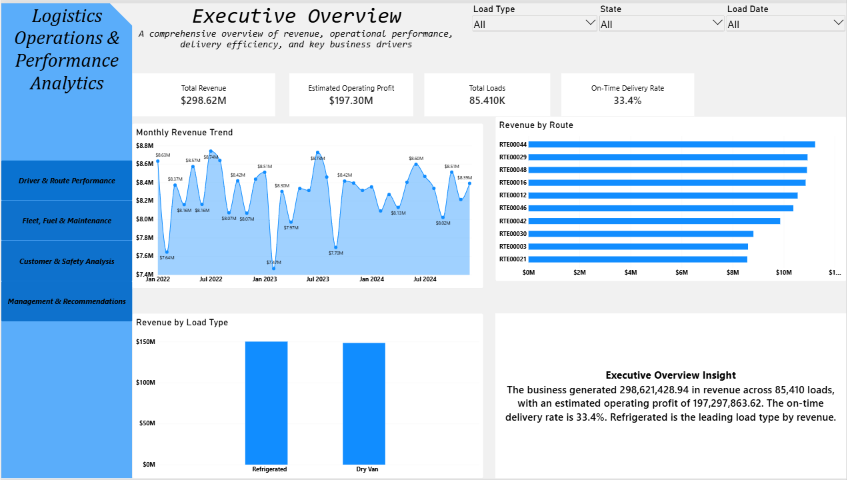

The dashboard page shown, as its layout file describes it:
{"tool":"powerbi","page":{"name":"Executive Overview","canvas":[3840,2160],"ordinal":0},"visuals":[{"type":"shape","box":[0,0,595.1,2157.7],"z":0},{"type":"cardVisual","fields":{"Data":["Loads.Total Revenue"]},"box":[595.1,318,649.6,195.3],"z":1000},{"type":"cardVisual","fields":{"Data":["Loads.Estimated Operating Profit"]},"box":[1308.3,318,563.3,195.3],"z":2000},{"type":"cardVisual","fields":{"Data":["Loads.Total Loads"]},"box":[1921.5,318,572.4,195.3],"z":3000},{"type":"cardVisual","fields":{"Data":["Delivery Events.On-Time Delivery Rate"]},"box":[2543.9,318,604.2,195.3],"z":4000},{"type":"lineChart","title":"Monthly Revenue Trend","fields":{"Category":["Loads.load_date.Variation.Date Hierarchy.Year","Loads.load_date.Variation.Date Hierarchy.Month"],"Y":["Loads.Total Revenue"]},"box":[595.1,545.1,1594.5,749.5],"z":5000},{"type":"clusteredBarChart","title":"Revenue by Route","fields":{"Category":["Loads.route_id"],"Y":["Loads.Total Revenue"]},"box":[2244.1,513.3,1594.5,749.5],"z":6000},{"type":"clusteredColumnChart","title":"Revenue by Load Type","fields":{"Category":["Loads.load_type"],"Y":["Loads.Total Revenue"]},"box":[595.1,1408.2,1594.5,749.5],"z":7000},{"type":"cardVisual","fields":{"Data":["Loads.Executive Overview Insight"]},"box":[2244.1,1408.2,1594.5,749.5],"z":8000},{"type":"textbox","box":[595.1,0,1490,277.1],"z":9000},{"type":"actionButton","box":[0,713.2,595.1,181.7],"z":10000},{"type":"actionButton","box":[0,894.9,595.1,181.7],"z":11000},{"type":"actionButton","box":[0,1076.6,595.1,186.2],"z":12000},{"type":"actionButton","box":[0,1262.8,595.1,181.7],"z":13000},{"type":"textbox","box":[0,0,595.1,417.9],"z":14000},{"type":"slicer","fields":{"Values":["Loads.load_type"]},"box":[2135,0,576.9,209],"z":15000},{"type":"slicer","fields":{"Values":["Safety Incidents.location_state"]},"box":[2711.9,0,576.9,209],"z":16000},{"type":"slicer","fields":{"Values":["Loads.load_date"]},"box":[3288.9,0,549.7,209],"z":17000}]}

Visuals, with their boxes in screenshot pixels (x1, y1, x2, y2), scaled from the page's 3840x2160 canvas onto the 847x480 screenshot:
shape: pyautogui.locateOnScreen(0, 0, 131, 479)
cardVisual - Loads.Total Revenue: pyautogui.locateOnScreen(131, 71, 275, 114)
cardVisual - Loads.Estimated Operating Profit: pyautogui.locateOnScreen(289, 71, 413, 114)
cardVisual - Loads.Total Loads: pyautogui.locateOnScreen(424, 71, 550, 114)
cardVisual - Delivery Events.On-Time Delivery Rate: pyautogui.locateOnScreen(561, 71, 694, 114)
"Monthly Revenue Trend" lineChart: pyautogui.locateOnScreen(131, 121, 483, 288)
"Revenue by Route" clusteredBarChart: pyautogui.locateOnScreen(495, 114, 846, 281)
"Revenue by Load Type" clusteredColumnChart: pyautogui.locateOnScreen(131, 313, 483, 479)
cardVisual - Loads.Executive Overview Insight: pyautogui.locateOnScreen(495, 313, 846, 479)
textbox: pyautogui.locateOnScreen(131, 0, 460, 62)
actionButton: pyautogui.locateOnScreen(0, 158, 131, 199)
actionButton: pyautogui.locateOnScreen(0, 199, 131, 239)
actionButton: pyautogui.locateOnScreen(0, 239, 131, 281)
actionButton: pyautogui.locateOnScreen(0, 281, 131, 321)
textbox: pyautogui.locateOnScreen(0, 0, 131, 93)
slicer - Loads.load_type: pyautogui.locateOnScreen(471, 0, 598, 46)
slicer - Safety Incidents.location_state: pyautogui.locateOnScreen(598, 0, 725, 46)
slicer - Loads.load_date: pyautogui.locateOnScreen(725, 0, 846, 46)
